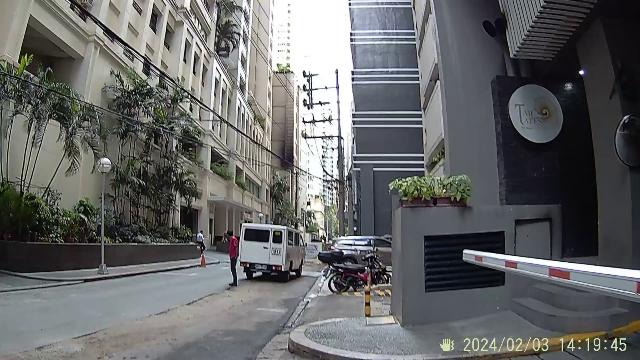lamp_post: (94, 157, 114, 275)
utility_post: (302, 70, 350, 230)
